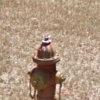Hydrant: (21, 36, 68, 100)
